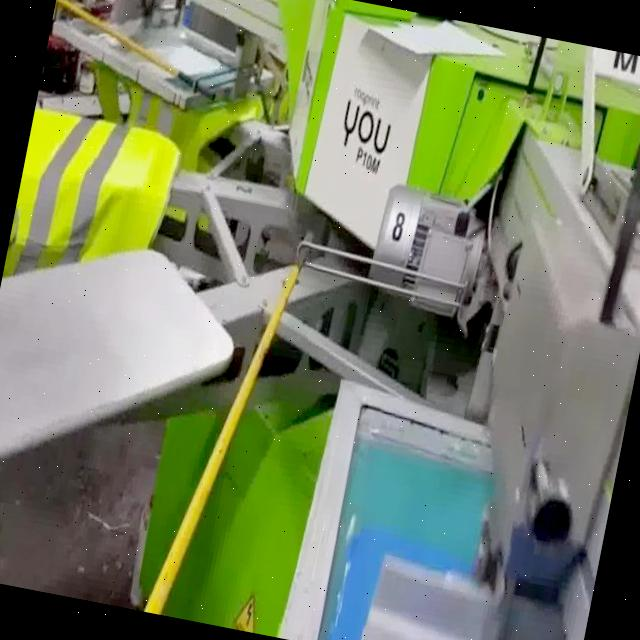vest: (5, 104, 188, 306)
